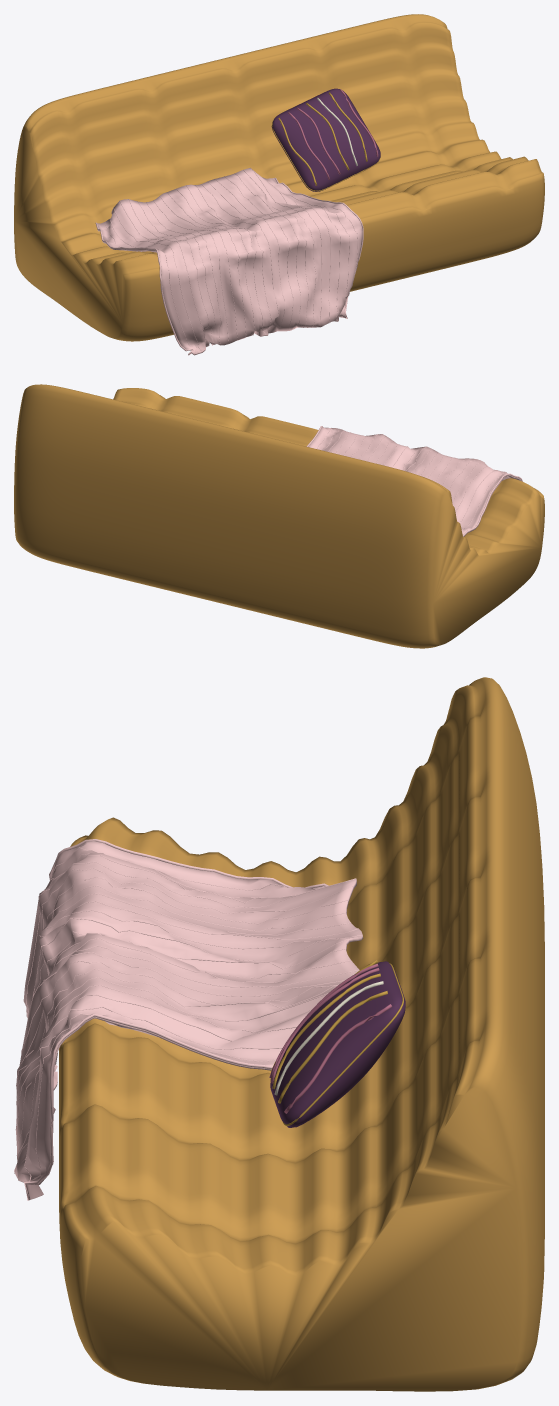
The model's file is fireside-dressed.glb.
The picture shows the model from 3 angles, top to bottom: view 1: azimuth 30°, elevation 25°; view 2: azimuth 150°, elevation 25°; view 3: azimuth 270°, elevation 25°; orthographic projection. The views are drawn at different scales.
Parts seen in each view (by area): view 1: fireside-dressed; view 2: fireside-dressed; view 3: fireside-dressed.
Part boxes in pixels (box(x1,y1,x2,y2)): fireside-dressed: box(14, 14, 544, 355); fireside-dressed: box(14, 384, 544, 648); fireside-dressed: box(14, 677, 544, 1391).
Size of the model in its own units: 1.8 by 0.723 by 1.
